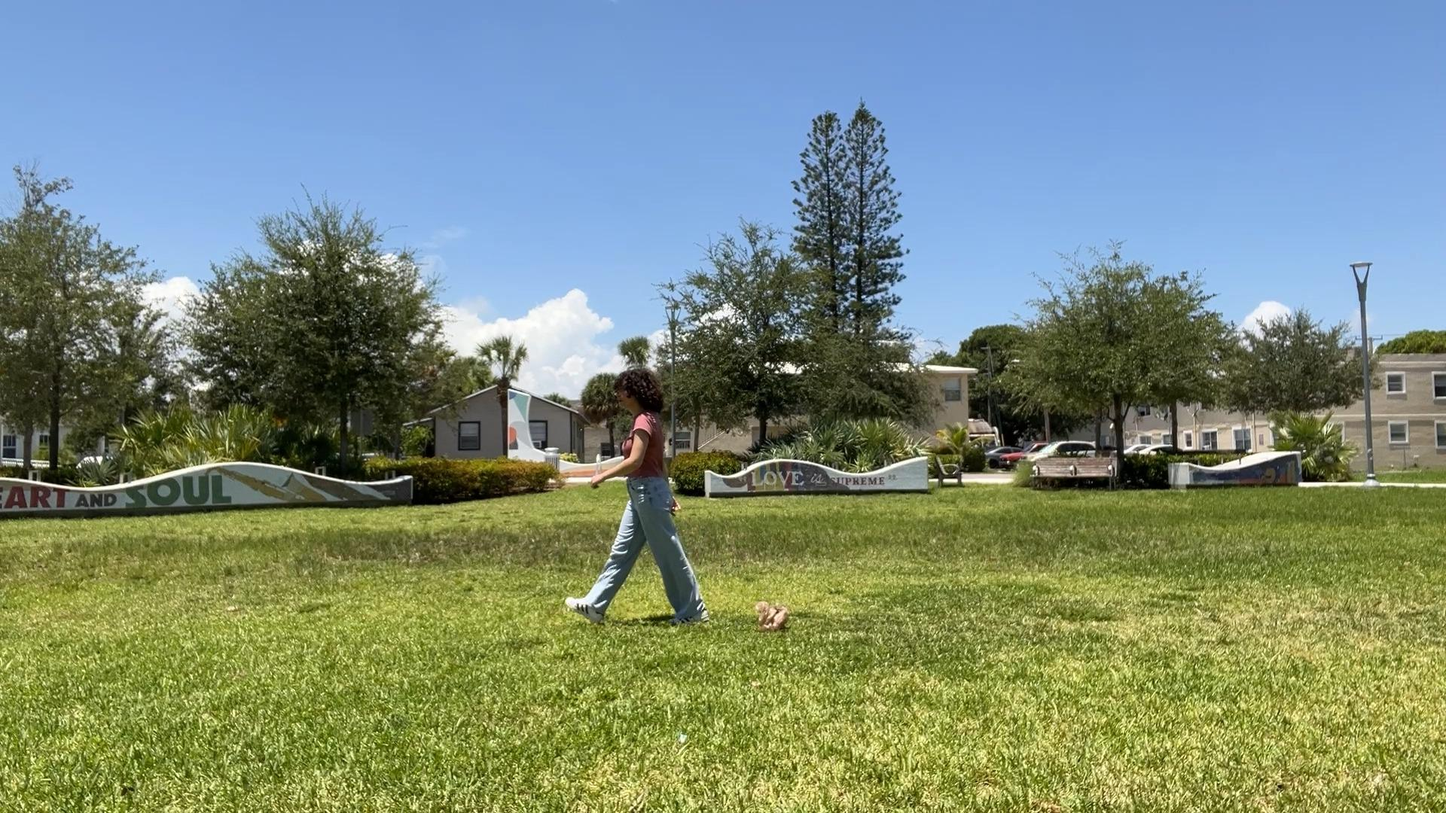Trash: (744, 590, 801, 648)
